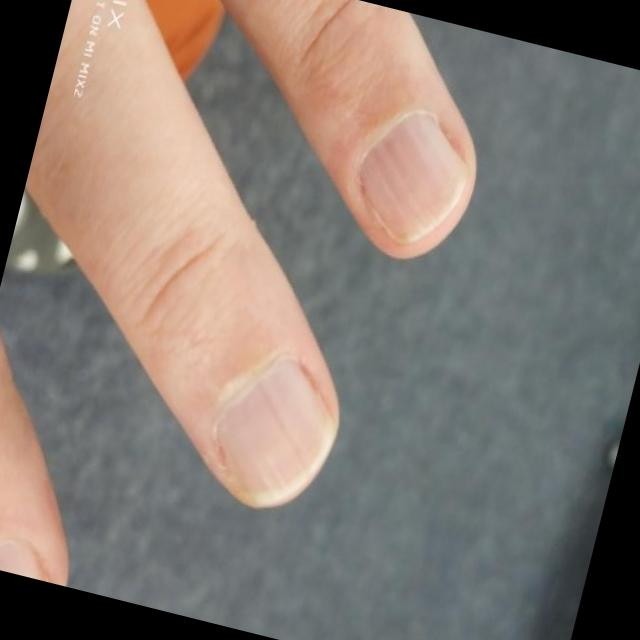Nail: (218, 361, 336, 506), (358, 113, 469, 239), (0, 538, 42, 580)
